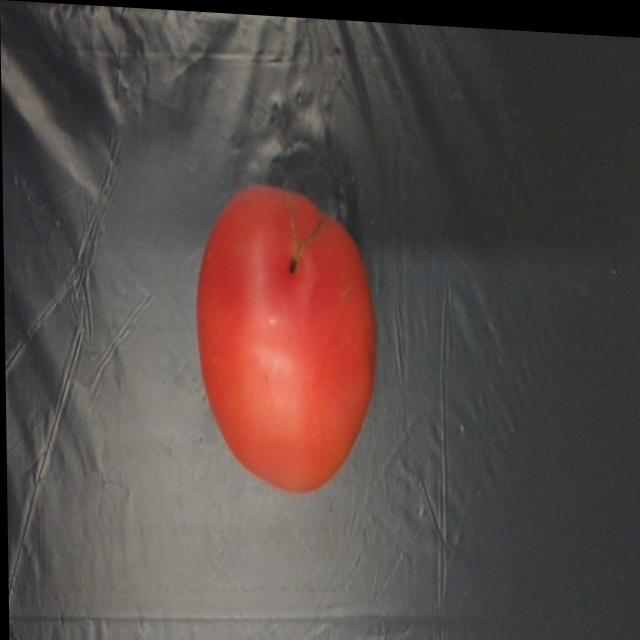kirmizi: (127, 132, 428, 512)
